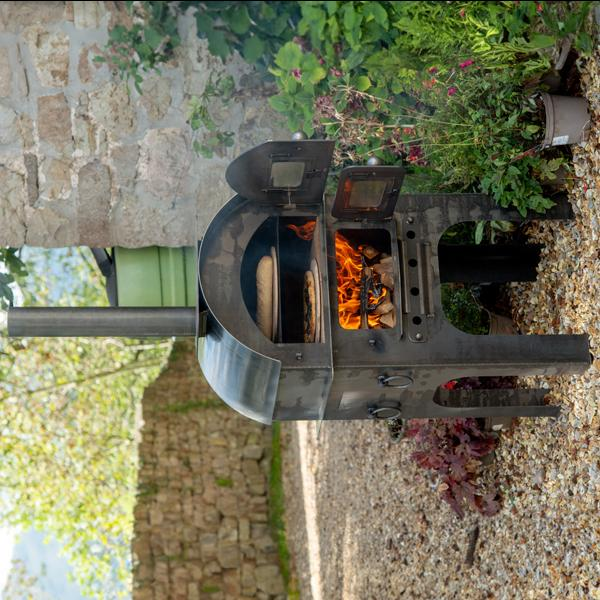controlled_fire: (324, 204, 410, 338)
